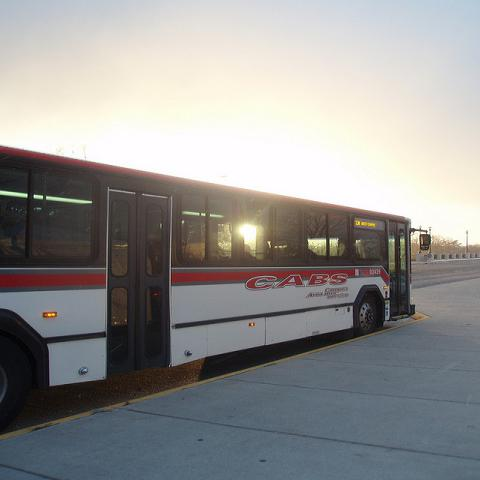bus: (0, 146, 431, 428)
